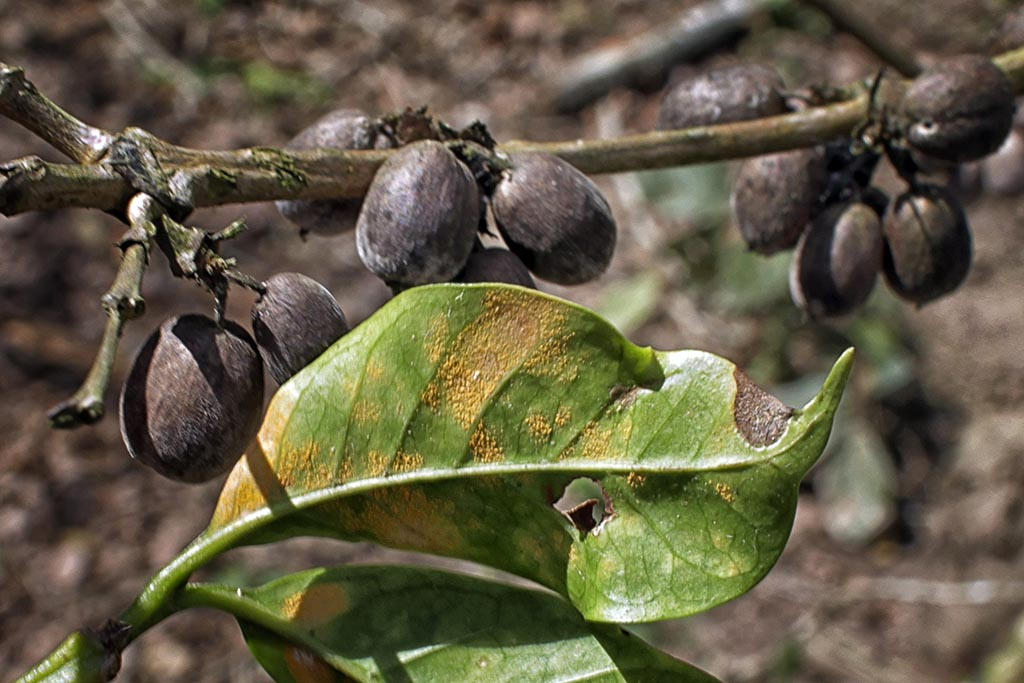roya: (328, 323, 761, 560)
